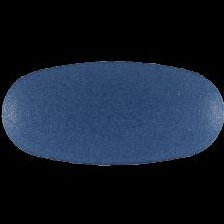33261-085: (0, 0, 224, 224)
